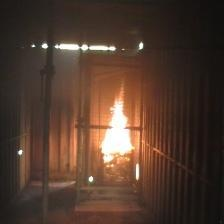fire: (96, 81, 134, 163)
